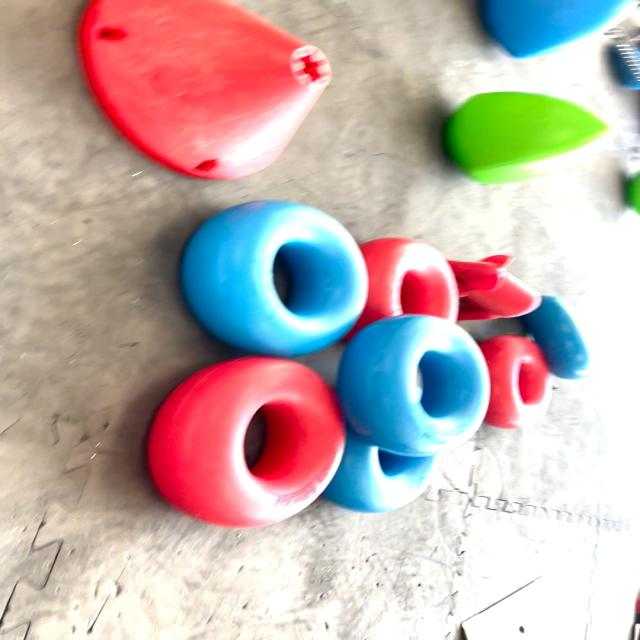Blue-Ring: (182, 201, 367, 356), (338, 315, 489, 456), (322, 429, 436, 512), (520, 295, 589, 379)
Red-Ring: (147, 356, 344, 528), (344, 238, 458, 341), (480, 335, 551, 429)
